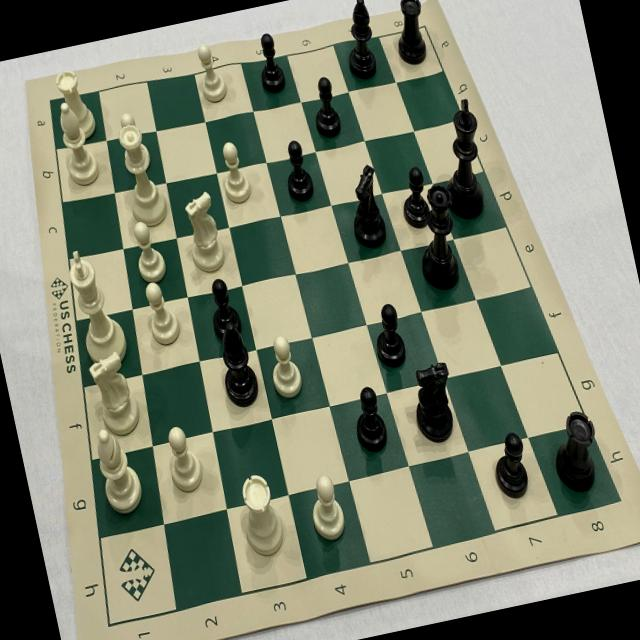black-bishop: (207, 316, 266, 414), (332, 0, 384, 84)
black-king: (428, 92, 498, 222)
black-knight: (403, 355, 462, 448), (338, 159, 392, 256)
black-pawn: (480, 427, 534, 506), (362, 296, 414, 376), (346, 378, 392, 458), (276, 133, 320, 208), (248, 28, 292, 99), (201, 274, 244, 346), (393, 163, 435, 236), (304, 72, 346, 144)
black-queen: (404, 183, 471, 304)
black-rook: (541, 404, 608, 498), (384, 0, 436, 70)
white-bishop: (88, 422, 149, 518), (51, 97, 104, 191)
white-king: (60, 242, 132, 371)
white-knight: (83, 348, 147, 442), (178, 188, 231, 278)
white-pawn: (298, 470, 351, 550), (158, 420, 210, 499), (137, 273, 186, 351), (262, 328, 308, 404), (212, 134, 258, 208), (127, 216, 172, 288), (188, 36, 231, 108), (112, 108, 156, 176)
white-queen: (110, 119, 174, 233)
white-rook: (230, 466, 290, 564), (52, 64, 99, 144)
